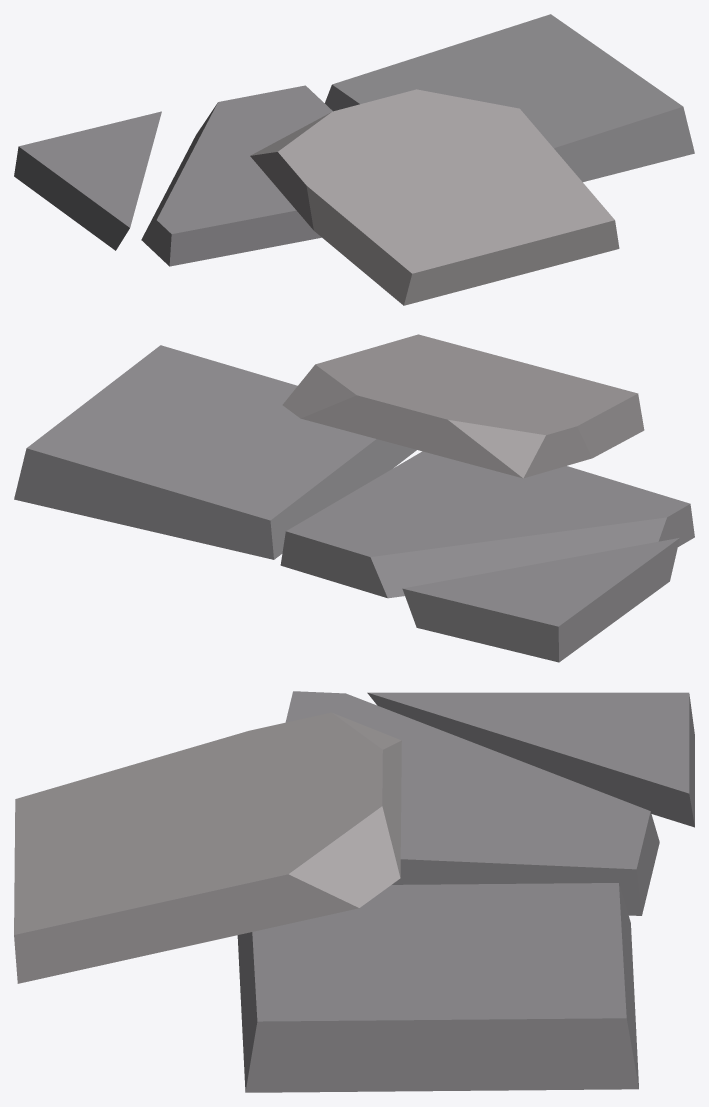
The model's file is Rock_Tiles_m_12.fbx.
3 views of the same model, one above another, from view 1: azimuth 30°, elevation 25°; view 2: azimuth 150°, elevation 25°; view 3: azimuth 270°, elevation 25° (orthographic). The views are drawn at different scales.
Parts seen in each view (by area): view 1: Rock_Tiles_m_12; view 2: Rock_Tiles_m_12; view 3: Rock_Tiles_m_12.
Part boxes in pixels (left/top/right/bottom): Rock_Tiles_m_12: left=14, top=14, right=694, bottom=305; Rock_Tiles_m_12: left=14, top=334, right=694, bottom=662; Rock_Tiles_m_12: left=14, top=691, right=694, bottom=1092.
Size of the model in its own units: 88.94 by 15.3 by 69.17.
